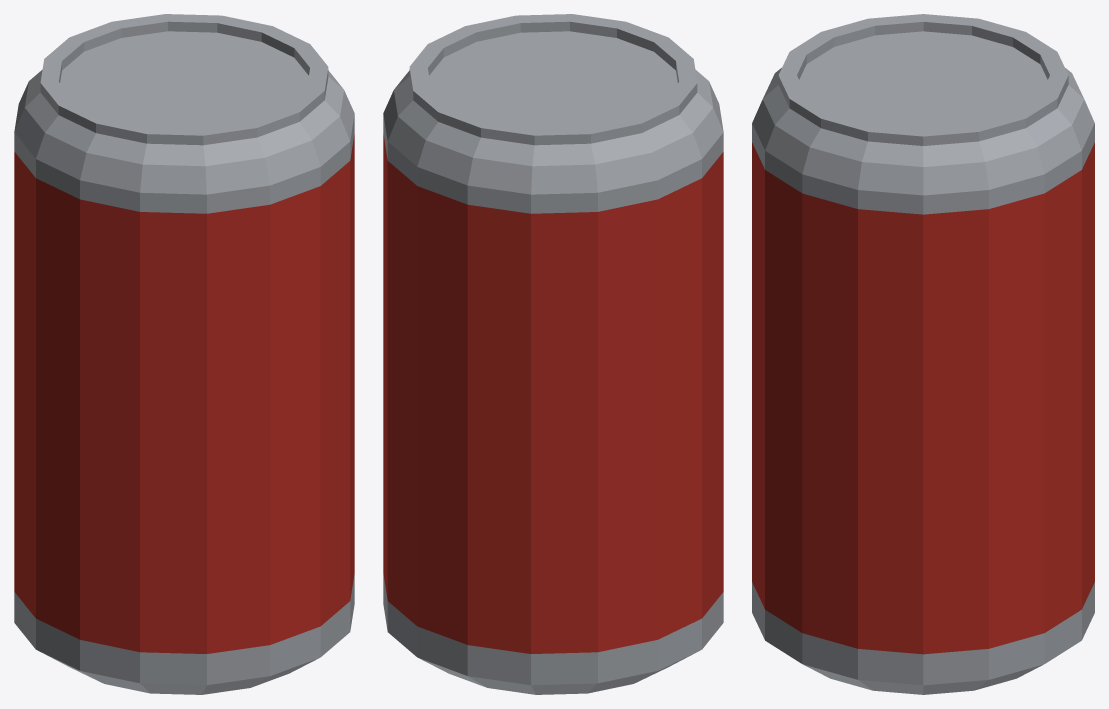
The model's file is soda_can.glb.
3 renders of one model, left to right at view 1: azimuth 30°, elevation 25°; view 2: azimuth 150°, elevation 25°; view 3: azimuth 270°, elevation 25°, orthographic.
Visible parts, largest first — view 1: soda_can; view 2: soda_can; view 3: soda_can.
Boxes of the visible parts, x1=… form: soda_can: x1=14, y1=14, x2=354, y2=694; soda_can: x1=383, y1=14, x2=723, y2=694; soda_can: x1=752, y1=14, x2=1094, y2=694.
Bounding box in the file's own units: 0.0661 × 0.12 × 0.0661.
